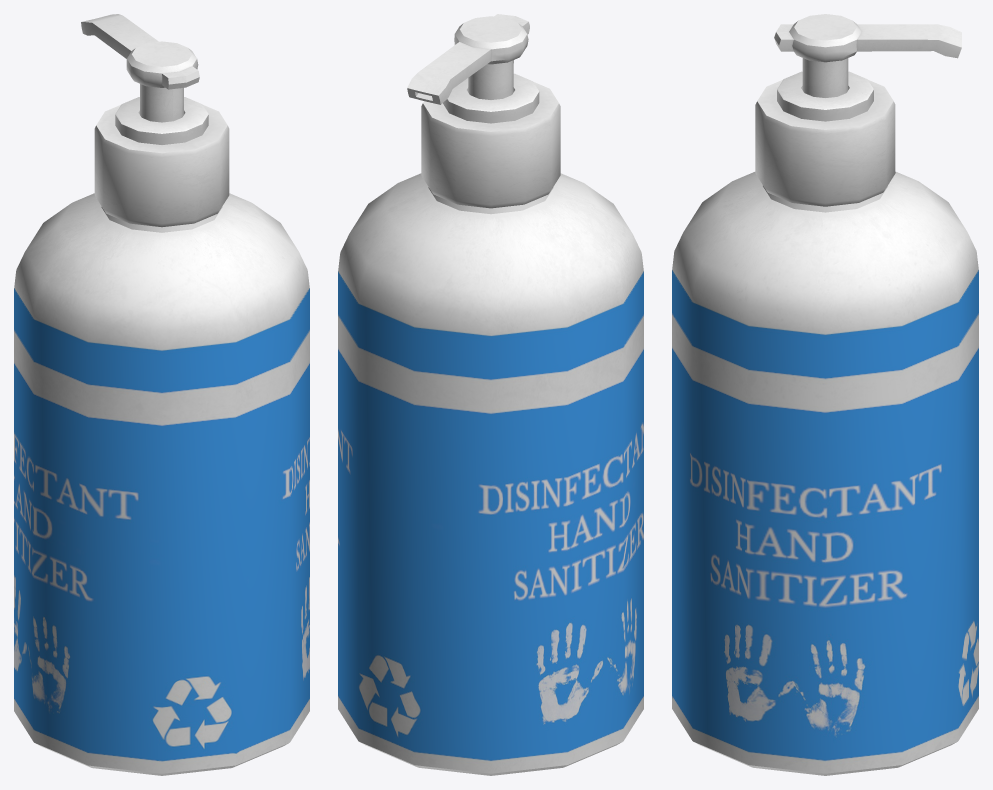
The model's file is sanitizer.glb.
3 renders of one model, left to right at view 1: azimuth 30°, elevation 25°; view 2: azimuth 150°, elevation 25°; view 3: azimuth 270°, elevation 25°, orthographic. The views are drawn at different scales.
Visible parts, largest first — view 1: bottle, cap, top; view 2: bottle, cap, top; view 3: bottle, cap, top.
Boxes of the visible parts, <box> form: bottle: <box>14,193,309,775</box>; cap: <box>94,97,229,227</box>; top: <box>81,14,199,122</box>; bottle: <box>338,173,643,775</box>; cap: <box>421,73,560,208</box>; top: <box>407,14,529,104</box>; bottle: <box>672,171,978,775</box>; cap: <box>755,71,895,206</box>; top: <box>774,14,961,97</box>.
Size of the model in its own units: 0.8089 by 2 by 0.8089.
Materials: 1 (1 with a texture image).
